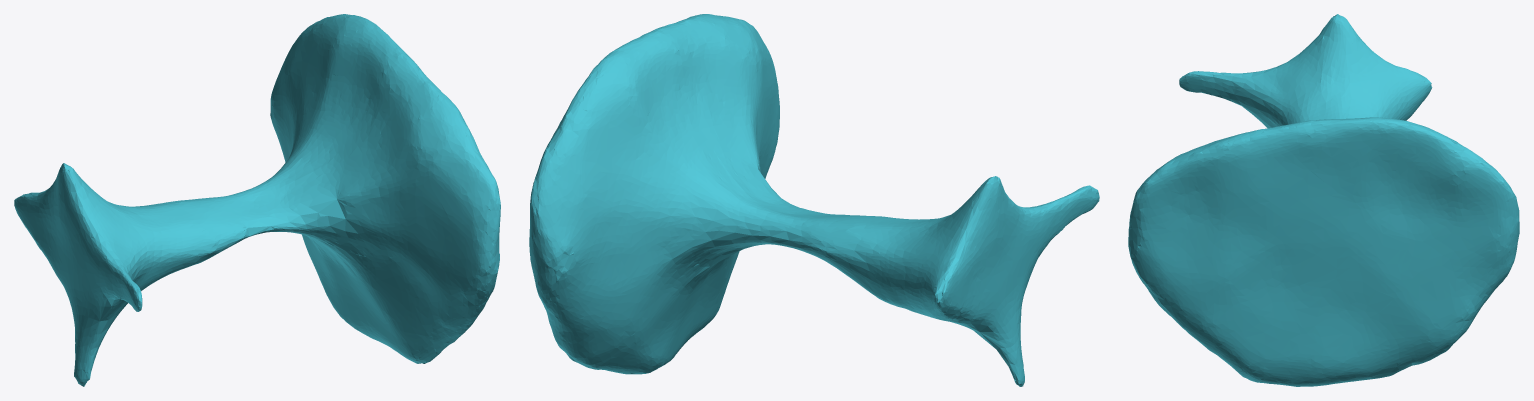
3 views of the same model, side by side, from view 1: azimuth 30°, elevation 25°; view 2: azimuth 150°, elevation 25°; view 3: azimuth 270°, elevation 25° (orthographic). The views are drawn at different scales.
Parts seen in each view (by area): view 1: Renderer Node; view 2: Renderer Node; view 3: Renderer Node.
Part boxes in pixels (x1,y1,x2,y2): Renderer Node: (14,14,500,386); Renderer Node: (529,14,1099,386); Renderer Node: (1128,14,1519,386).
Bounding box in the file's own units: 0.5681 × 0.4551 × 0.5954.
1 material, 1 textured.
